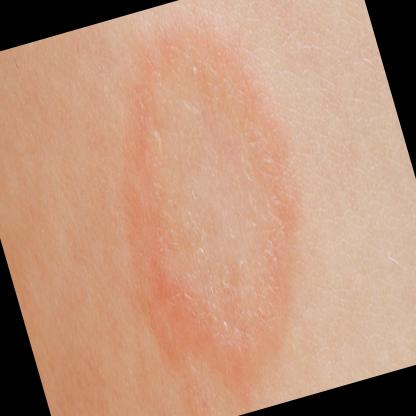Ringworm: (56, 0, 357, 416)
